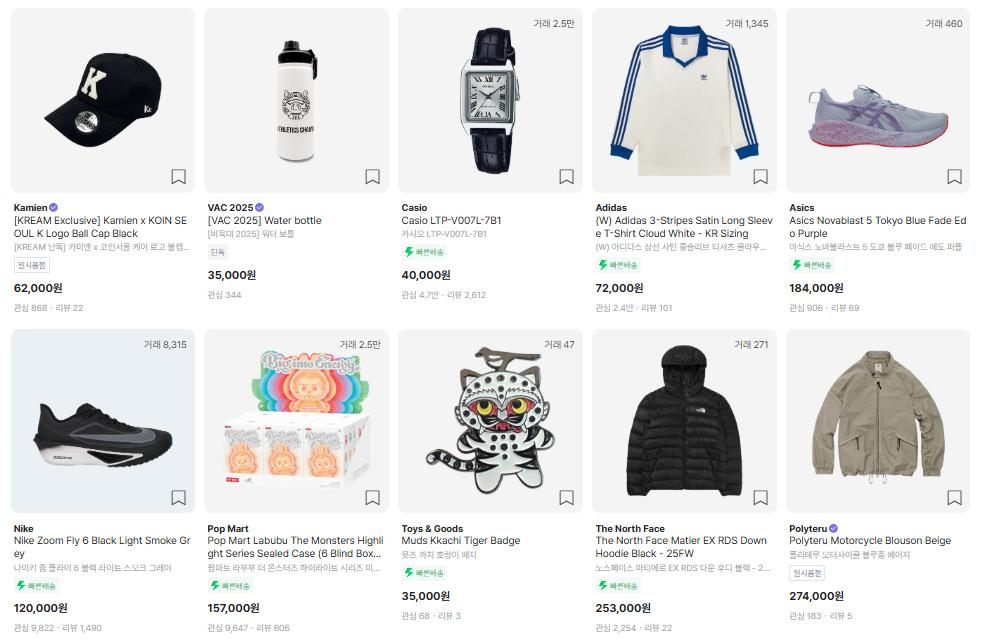button: (945, 488, 965, 507), (729, 147, 748, 166), (558, 486, 577, 505), (363, 487, 382, 506), (168, 488, 187, 507), (939, 170, 958, 189), (749, 167, 768, 186), (555, 168, 574, 187), (360, 167, 379, 186), (165, 170, 184, 189)
